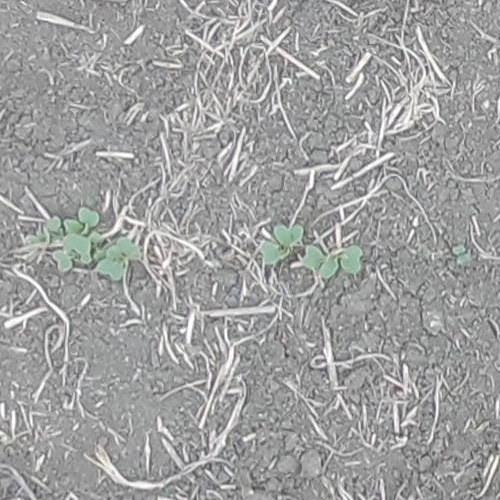plant: (52, 206, 144, 281), (258, 221, 364, 280), (42, 215, 66, 242), (450, 244, 473, 266)
